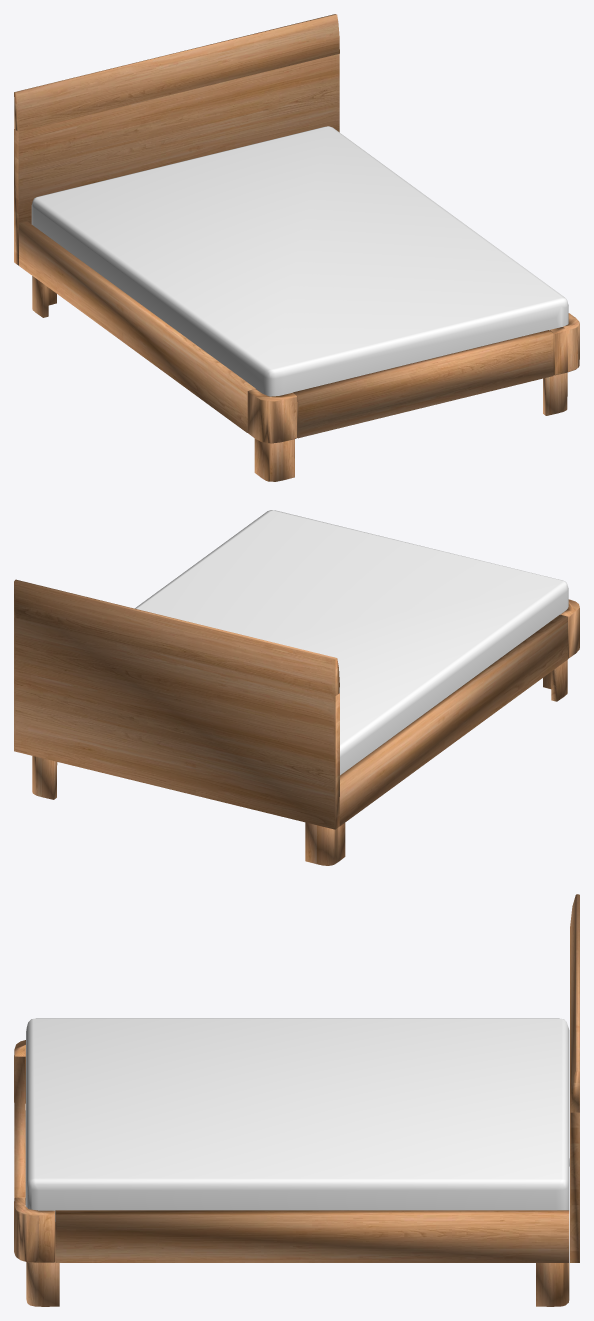
Rendered from abo-B07K7NXVXR.glb.
3 views of the same model, one above another, from view 1: azimuth 30°, elevation 25°; view 2: azimuth 150°, elevation 25°; view 3: azimuth 270°, elevation 25° (orthographic). The views are drawn at different scales.
Visible parts, largest first — view 1: RootNode; view 2: RootNode; view 3: RootNode.
Boxes of the visible parts, x1,y1,x2,y2 form: RootNode: [14, 14, 579, 481]; RootNode: [14, 510, 579, 865]; RootNode: [14, 894, 579, 1306].
Size of the model in its own units: 1.47 by 0.9384 by 1.99.
Materials: 1 (1 with a texture image).
